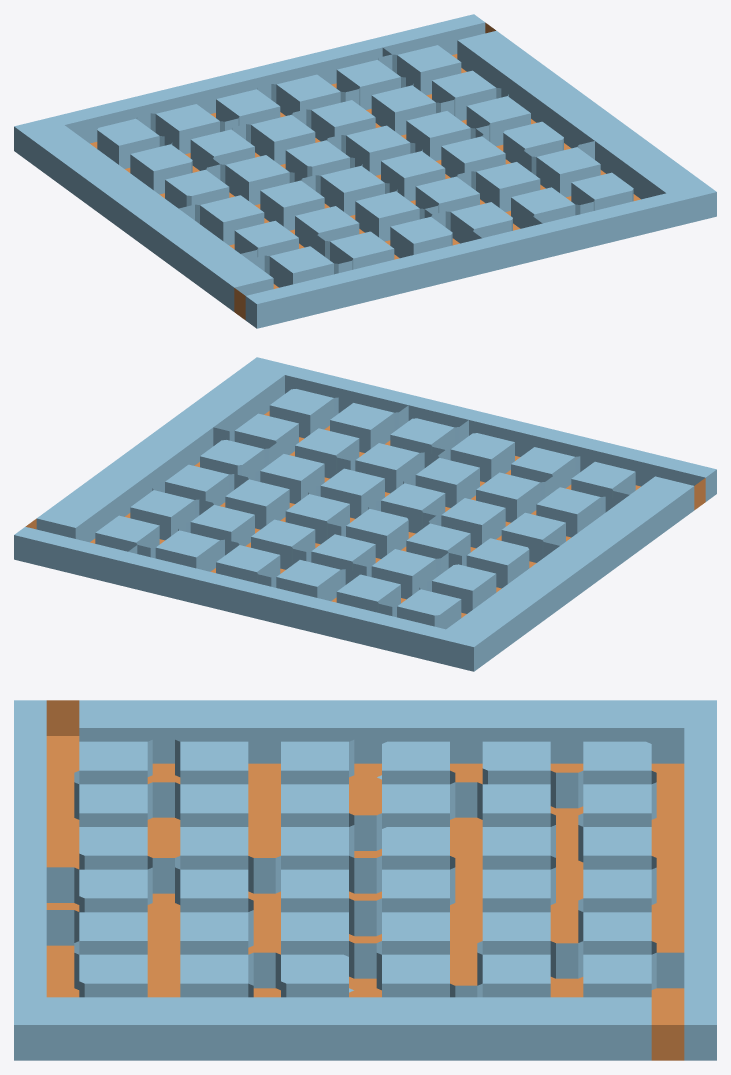
The model's file is mazev11.dae.
3 views of the same model, one above another, from view 1: azimuth 30°, elevation 25°; view 2: azimuth 150°, elevation 25°; view 3: azimuth 270°, elevation 25° (orthographic). The views are drawn at different scales.
Visible parts, largest first — view 1: 平面; view 2: 平面; view 3: 平面.
Boxes of the visible parts, x1,y1,x2,y2 form: 平面: (14, 14, 716, 328); 平面: (14, 357, 716, 671); 平面: (14, 700, 716, 1060).
Size of the model in its own units: 29.35 by 26.85 by 1.5.
